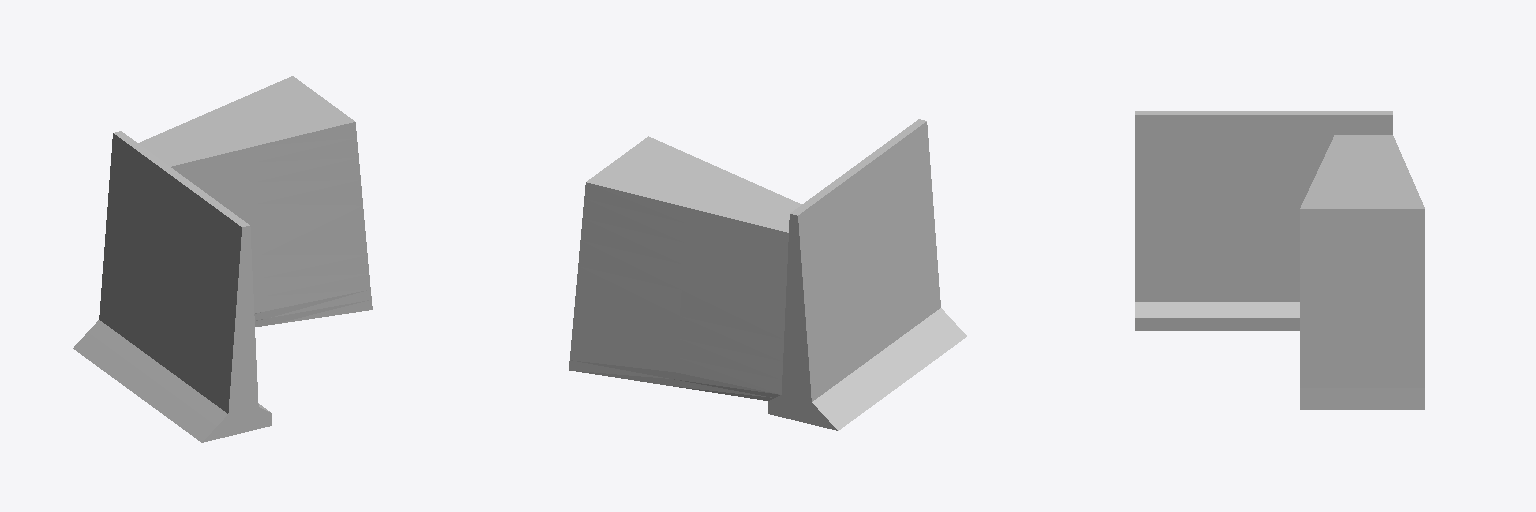
Rendered from Intrerior_1_flatten.obj.
3 renders of one model, left to right at view 1: azimuth 30°, elevation 25°; view 2: azimuth 150°, elevation 25°; view 3: azimuth 270°, elevation 25°, orthographic.
Visible parts, largest first — view 1: Cube.1; view 2: Cube.1; view 3: Cube.1.
Part boxes in pixels (x1,y1,x2,y2): Cube.1: (73,76,372,442); Cube.1: (569,119,966,430); Cube.1: (1135,111,1424,409).
Size of the model in its own units: 642 by 497 by 638.